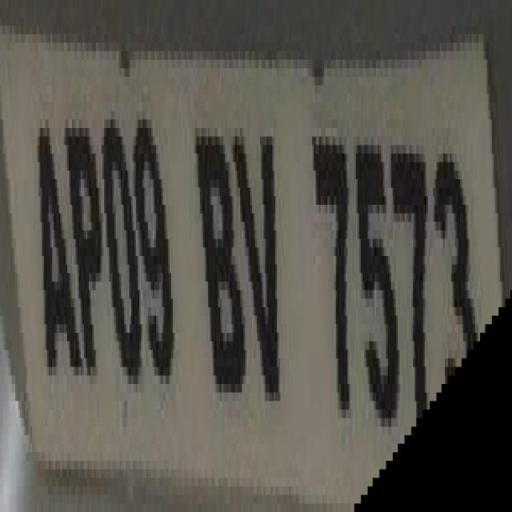number plate: (0, 0, 494, 512)
